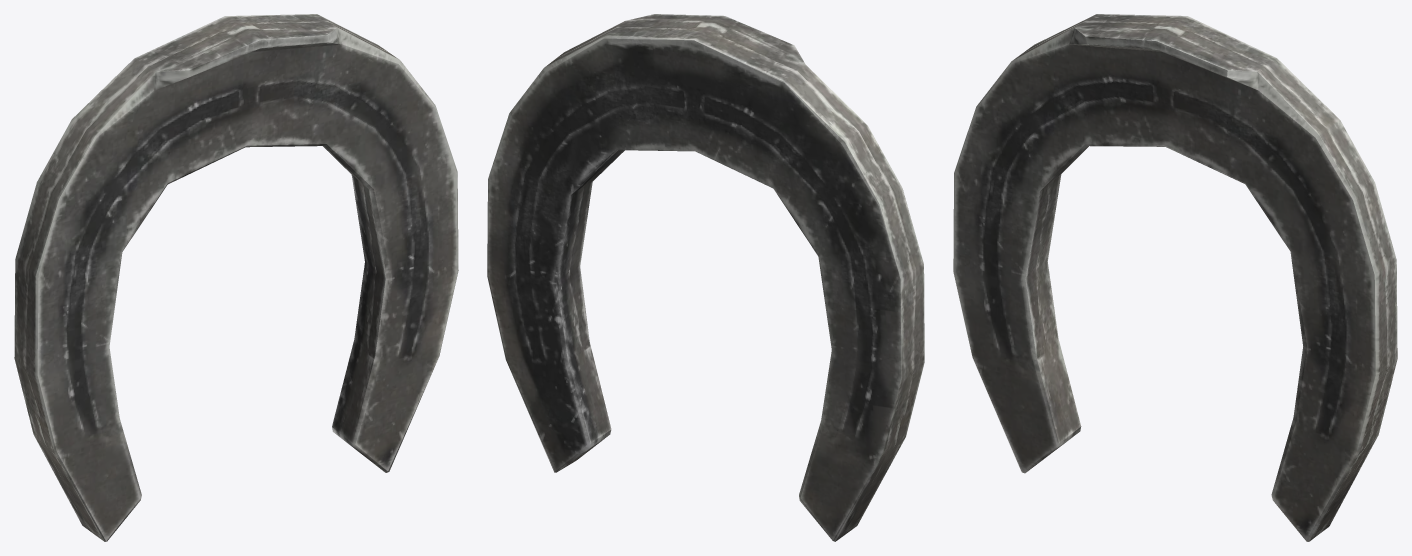
Rendered from horseshoe.glb.
3 renders of one model, left to right at view 1: azimuth 30°, elevation 25°; view 2: azimuth 150°, elevation 25°; view 3: azimuth 330°, elevation 25°, orthographic.
Parts seen in each view (by area): view 1: Cube.033_Cube.022; view 2: Cube.033_Cube.022; view 3: Cube.033_Cube.022.
Part boxes in pixels (x1,y1,x2,y2): Cube.033_Cube.022: [14, 14, 458, 541]; Cube.033_Cube.022: [487, 14, 924, 541]; Cube.033_Cube.022: [953, 14, 1397, 541].
Size of the model in its own units: 155 by 167 by 21.51.
1 material, 1 textured.
